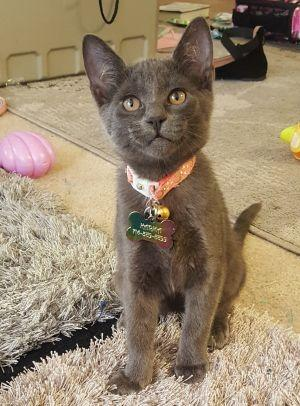rblue: (70, 4, 229, 193)
